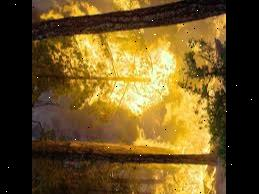fire: (34, 31, 226, 152), (91, 163, 221, 194), (32, 0, 159, 20)
